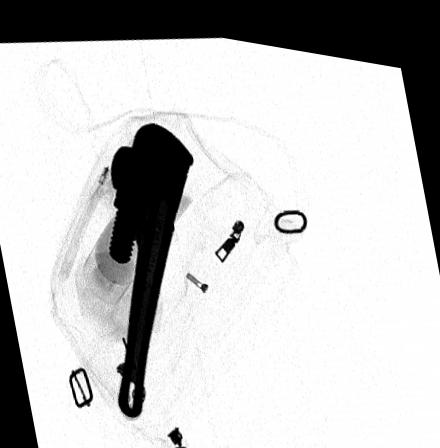Wrench: (108, 115, 196, 413)
